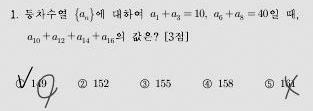choice: (13, 73, 28, 90)
not-choice: (75, 78, 89, 90), (138, 77, 150, 90), (263, 78, 276, 90), (201, 78, 213, 89)
